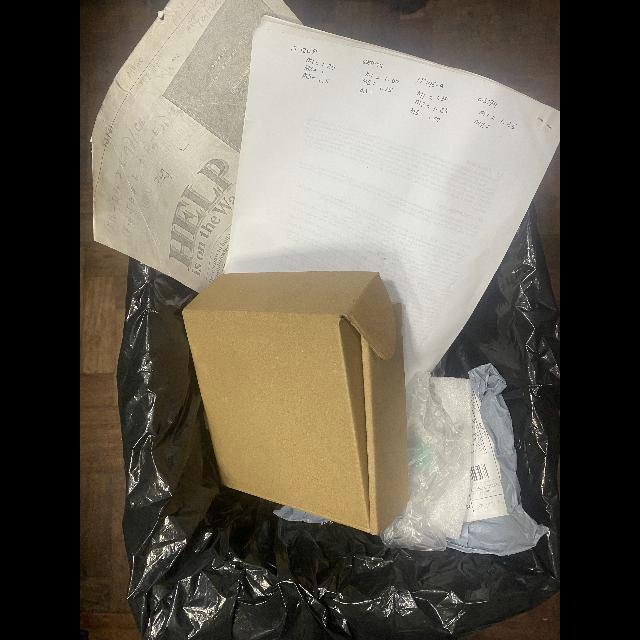cardboard: (181, 273, 409, 534)
paper: (225, 15, 560, 386), (90, 0, 304, 294)
plastic_bag: (447, 363, 550, 556), (379, 373, 465, 551)
